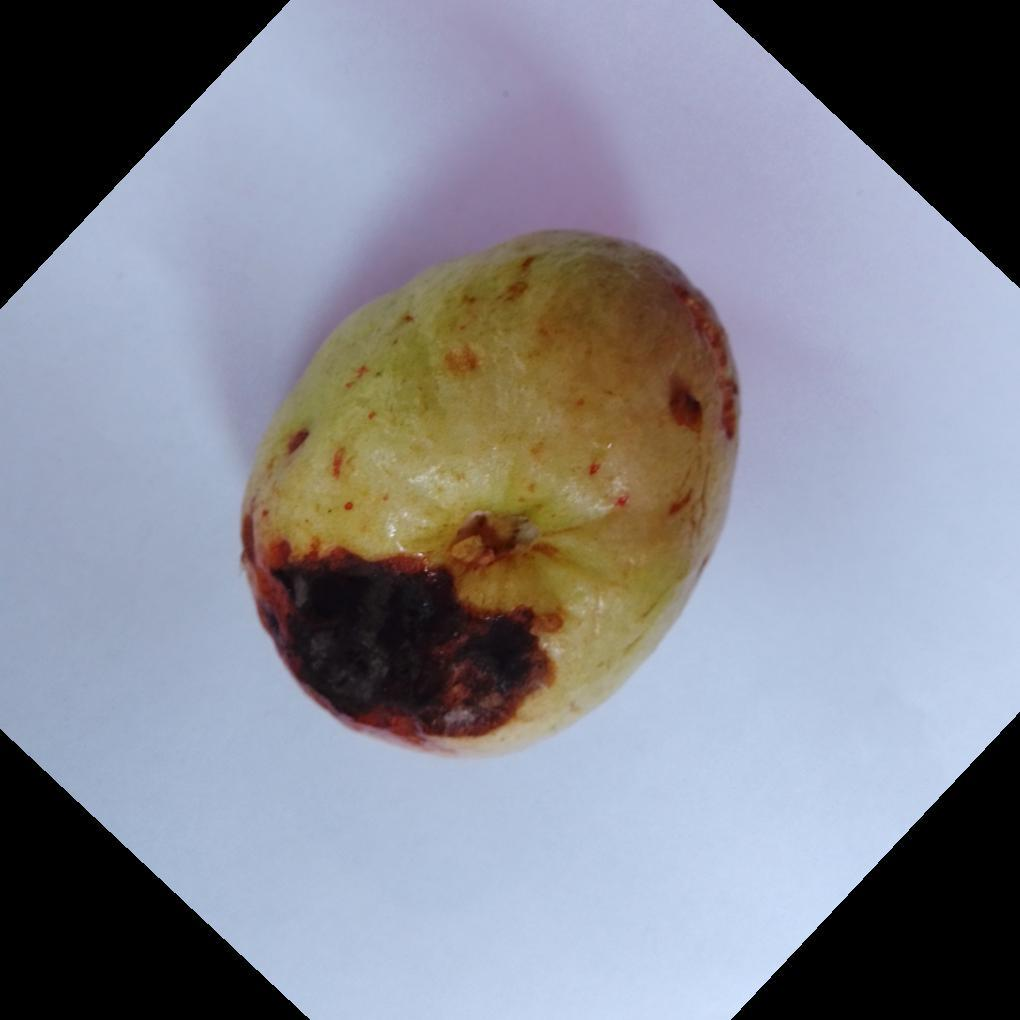FreshOrange: (237, 230, 742, 764)
